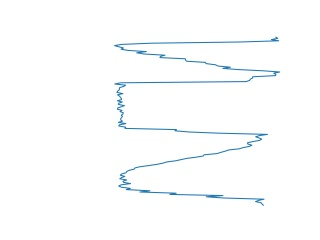distributaryChannelFill: (112, 73, 271, 141)
mouthBar: (112, 34, 282, 80)
underwaterDistributaryChannel: (114, 138, 268, 209)
